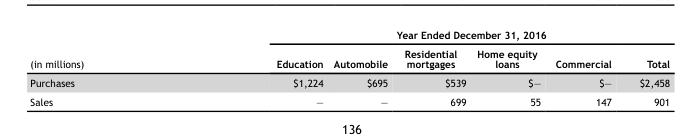table: (29, 28, 669, 107)
table column: (29, 28, 179, 107), (179, 28, 327, 107), (470, 28, 547, 107), (547, 28, 624, 107), (395, 28, 470, 107), (327, 28, 395, 107), (624, 28, 669, 107)
table column header: (29, 28, 669, 73)
table row: (29, 43, 669, 73), (29, 73, 669, 91), (29, 91, 669, 107), (29, 28, 669, 43)
table spanning cell: (179, 28, 669, 43), (29, 28, 179, 73)
